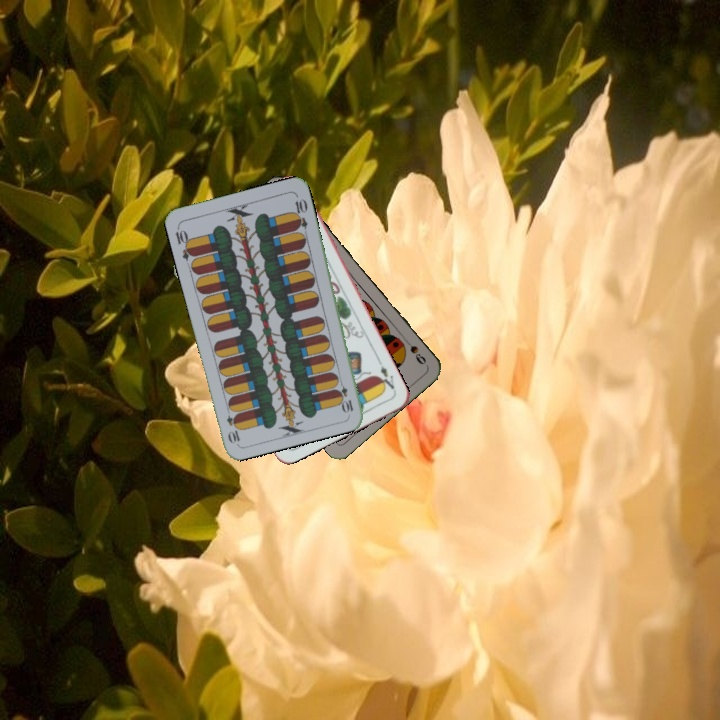E10: (171, 223, 197, 263), (334, 375, 356, 415)
EA: (374, 362, 399, 394)
S9: (399, 333, 429, 367)
